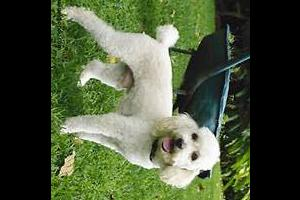dog: (58, 5, 220, 188)
